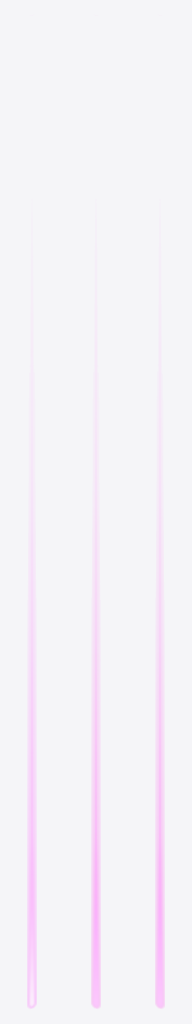
The model's file is 农业产业化省级重点龙头企业.gltf.
3 renders of one model, left to right at view 1: azimuth 30°, elevation 25°; view 2: azimuth 150°, elevation 25°; view 3: azimuth 330°, elevation 25°, orthographic.
Parts seen in each view (by area): view 1: 线; view 2: 线; view 3: 线.
Boxes of the visible parts, <box> form: 线: <box>27,556,36,1007</box>; 线: <box>91,556,100,1007</box>; 线: <box>155,555,164,1007</box>.
Size of what is drawn, in the model's own units: 4 by 390 by 0.
1 material, 1 textured.
